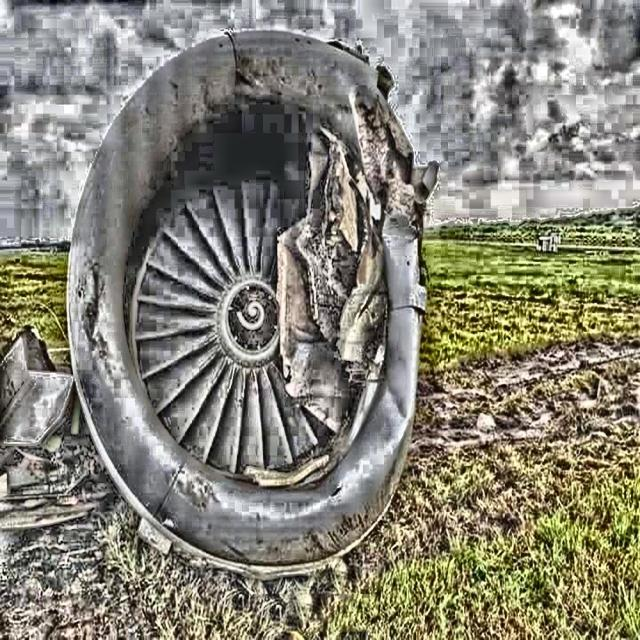dent: (378, 329, 413, 499), (383, 215, 424, 265)
